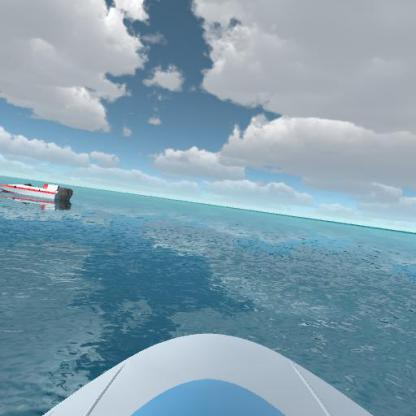usv3: (1, 174, 74, 212)
